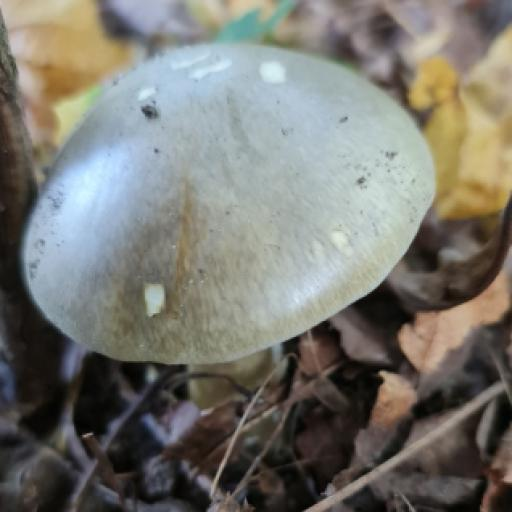mushroom: (0, 0, 472, 465)
